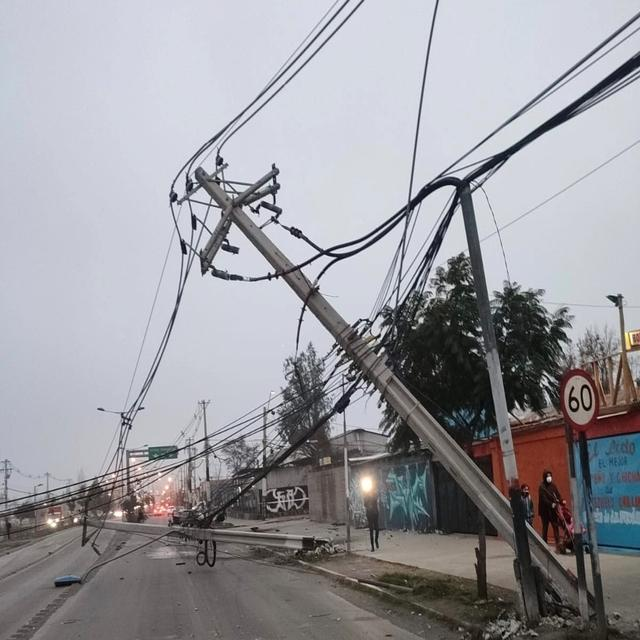Inclined Pole: (165, 152, 605, 616)
